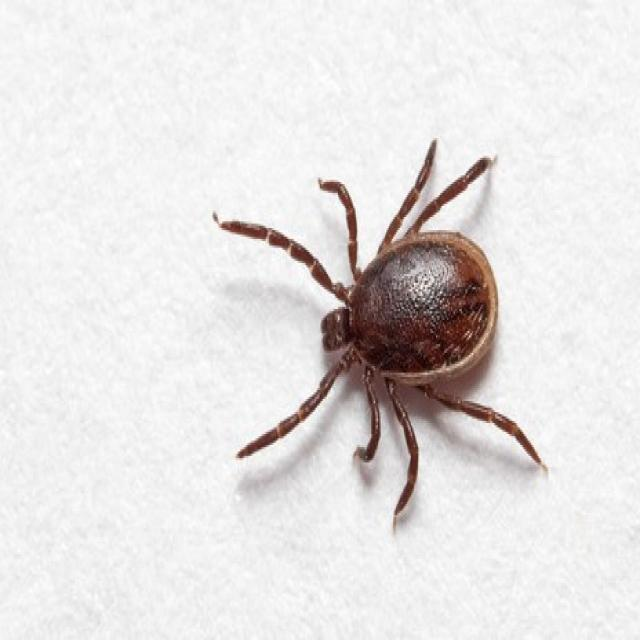Ixodes Ricinus-M: (211, 142, 545, 528)
